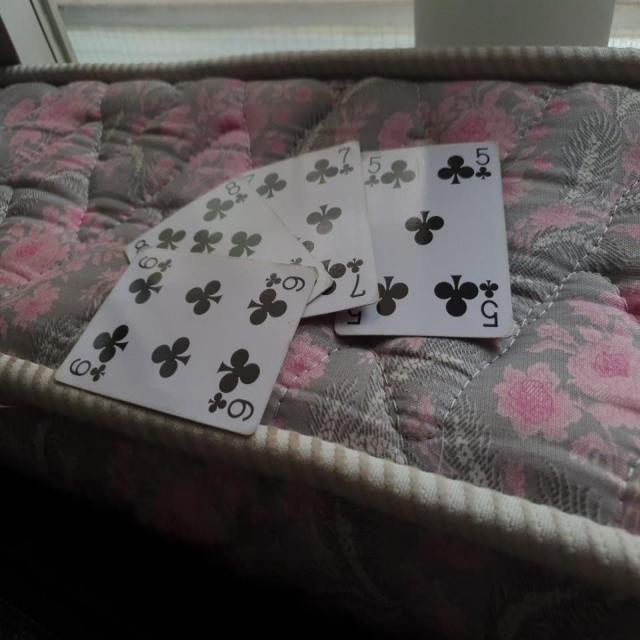5 Trefoils: (333, 136, 520, 335)
6 Trefoils: (53, 247, 316, 437)
7 Trefoils: (243, 136, 380, 319)
8 Trefoils: (123, 176, 333, 306)
